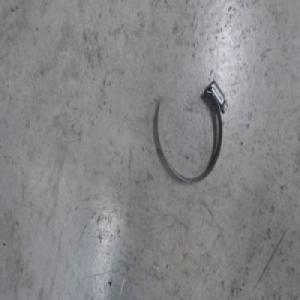AdjustableClamp: (153, 78, 228, 188)
